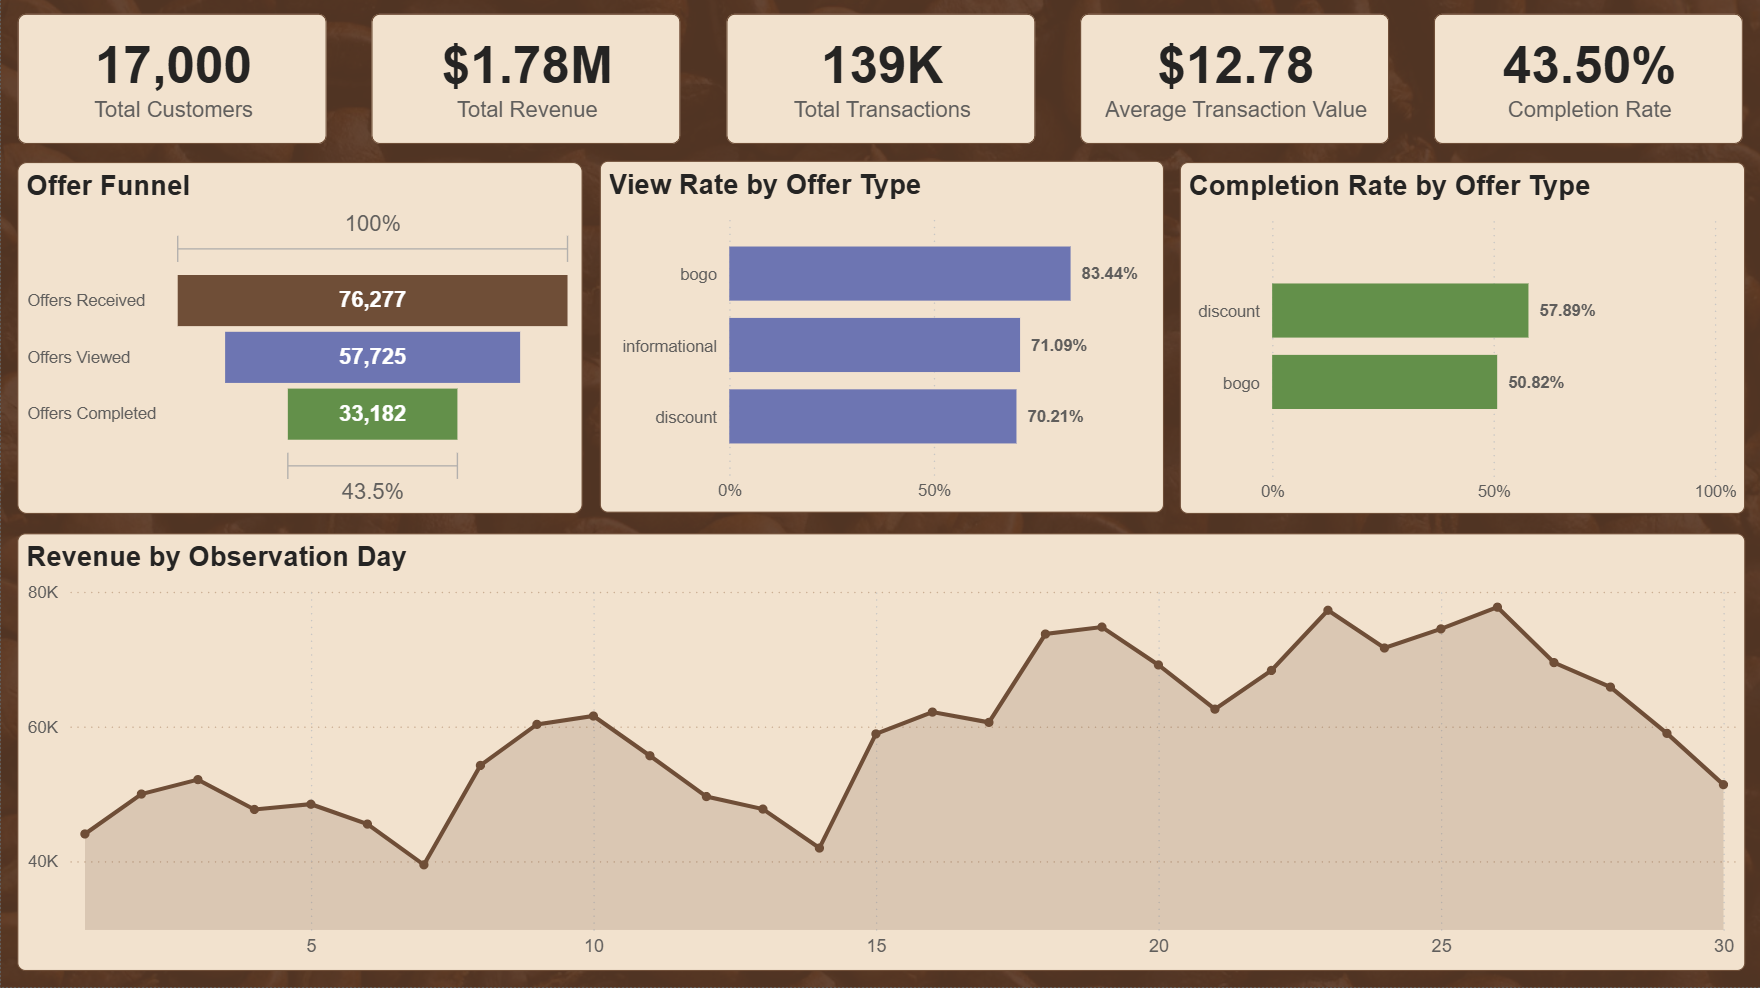

This screenshot's page, from the dashboard's own definition file:
{"tool":"powerbi","page":{"name":"Overview","canvas":[1280,720],"ordinal":0},"visuals":[{"type":"cardVisual","fields":{"Data":["MeasuresFile.Total Customers"]},"box":[0,0,250,120],"z":0},{"type":"cardVisual","fields":{"Data":["MeasuresFile.Total Transactions"]},"box":[515,0,250,120],"z":1000},{"type":"cardVisual","fields":{"Data":["MeasuresFile.Average Transaction Value"]},"box":[772.5,0,250,120],"z":2000},{"type":"cardVisual","fields":{"Data":["MeasuresFile.Completion Rate"]},"box":[1030,0,250,120],"z":3000},{"type":"cardVisual","fields":{"Data":["MeasuresFile.Total Revenue"]},"box":[257.5,0,250,120],"z":4000},{"type":"funnel","title":"Offer Funnel","fields":{"Y":["MeasuresFile.Offers Received","MeasuresFile.Offers Viewed","MeasuresFile.Offers Completed"]},"box":[12,120,411,256.4],"z":5000},{"type":"clusteredBarChart","title":"View Rate by Offer Type","fields":{"Category":["Dim Offers.offer_type"],"Y":["MeasuresFile.View Rate"]},"box":[435,119,410,256.4],"z":6000},{"type":"clusteredBarChart","title":"Completion Rate by Offer Type","fields":{"Category":["Dim Offers.offer_type"],"Y":["MeasuresFile.Completion Rate"]},"box":[857,120,411,256.4],"z":7000},{"type":"lineChart","title":"Revenue by Observation Day","fields":{"Category":["Fact Events.Observation Day"],"Y":["MeasuresFile.Total Revenue"]},"box":[12,390,1256.7,318.3],"z":8000}]}

Visuals, with their boxes in screenshot pixels (x1, y1, x2, y2), scaled from the page's 1280x720 canvas onto the 1760x988 screenshot:
cardVisual - MeasuresFile.Total Customers: 0 0 344 165
cardVisual - MeasuresFile.Total Transactions: 708 0 1052 165
cardVisual - MeasuresFile.Average Transaction Value: 1062 0 1406 165
cardVisual - MeasuresFile.Completion Rate: 1416 0 1759 165
cardVisual - MeasuresFile.Total Revenue: 354 0 698 165
"Offer Funnel" funnel: 16 165 582 517
"View Rate by Offer Type" clusteredBarChart: 598 163 1162 515
"Completion Rate by Offer Type" clusteredBarChart: 1178 165 1744 517
"Revenue by Observation Day" lineChart: 16 535 1744 972
